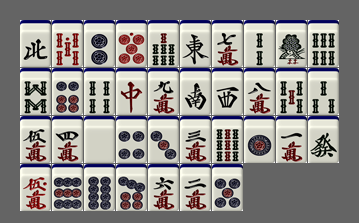0m: (20, 164, 51, 211)
0p: (116, 20, 147, 67)
0s: (52, 20, 83, 67)
1m: (276, 116, 307, 163)
1p: (244, 116, 275, 163)
1s: (276, 20, 307, 67)
1z: (180, 20, 211, 67)
2m: (180, 164, 211, 211)
2p: (84, 20, 115, 67)
2s: (244, 20, 275, 67)
2z: (180, 68, 211, 115)
3m: (180, 116, 211, 163)
3p: (148, 116, 179, 163)
3s: (308, 68, 339, 115)
3z: (212, 68, 243, 115)
4m: (52, 116, 83, 163)
4p: (116, 116, 147, 163)
4s: (84, 68, 115, 115)
4z: (20, 20, 51, 67)
5m: (20, 116, 51, 163)
5p: (212, 164, 243, 211)
5s: (276, 68, 307, 115)
5z: (84, 116, 115, 163)
6m: (148, 164, 179, 211)
6p: (52, 68, 83, 115)
6s: (308, 20, 339, 67)
6z: (308, 116, 339, 163)
7m: (212, 20, 243, 67)
7p: (116, 164, 147, 211)
7s: (148, 20, 179, 67)
7z: (116, 68, 147, 115)
8m: (244, 68, 275, 115)
8p: (84, 164, 115, 211)
8s: (20, 68, 51, 115)
9m: (148, 68, 179, 115)
9p: (52, 164, 83, 211)
9s: (212, 116, 243, 163)
